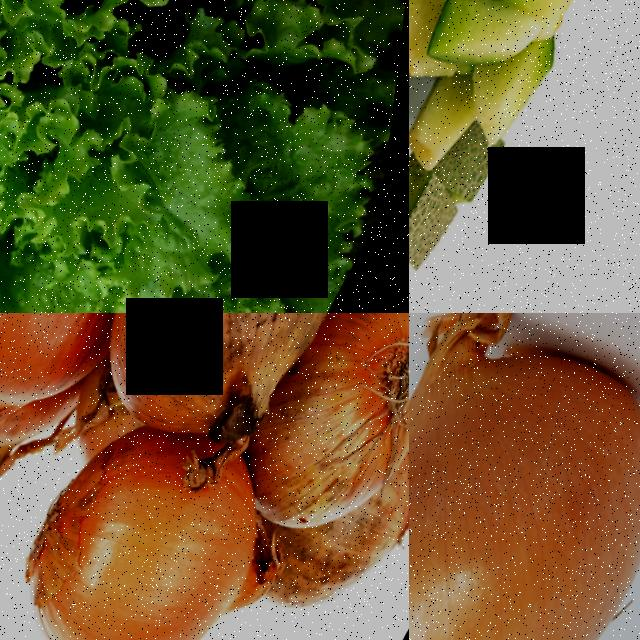lettuce: (0, 0, 409, 313)
onion: (409, 313, 640, 640), (0, 393, 305, 640), (71, 313, 393, 470), (234, 313, 409, 551), (0, 313, 202, 474)
